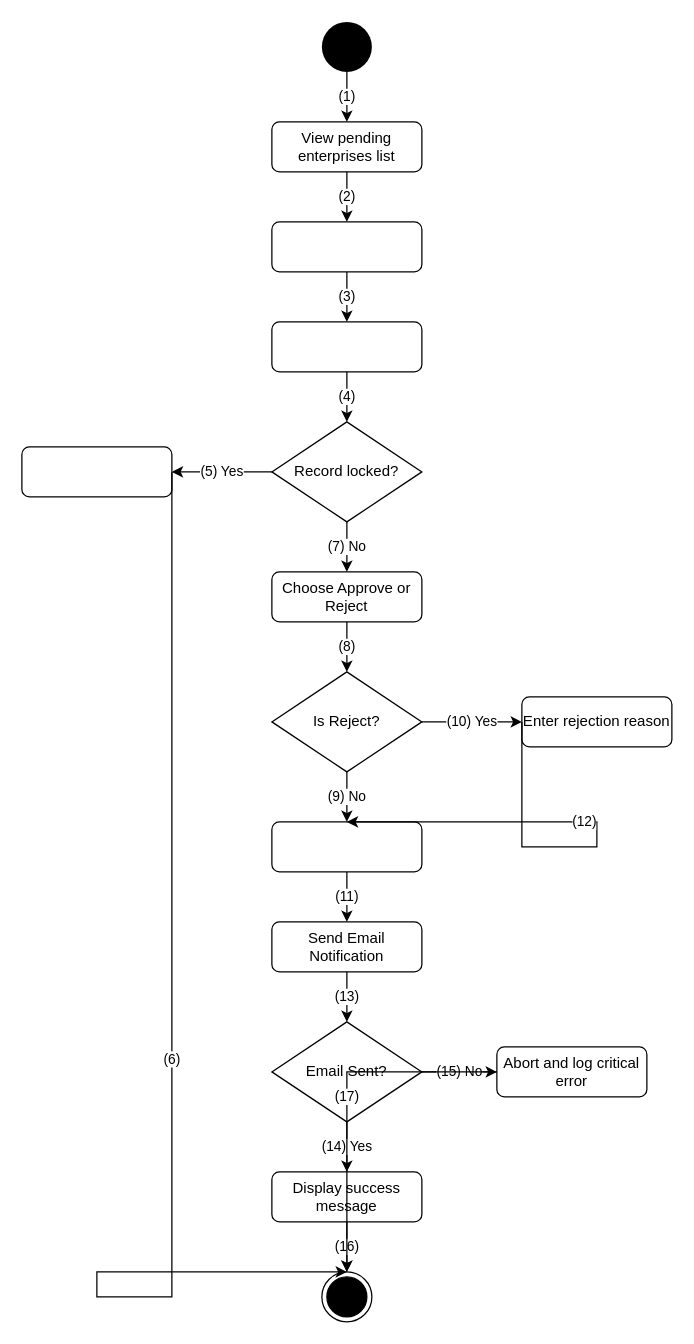
Image size: 694x1344. Some labels were removed from this diagram. The centre of each missing label's shape, as x and y in pixels:
"Display locked error" belongs at [96,471].
"Review enterprise details" belongs at [346,246].
"System checks concurrency" belongs at [346,346].
"Update account status" belongs at [346,846].
